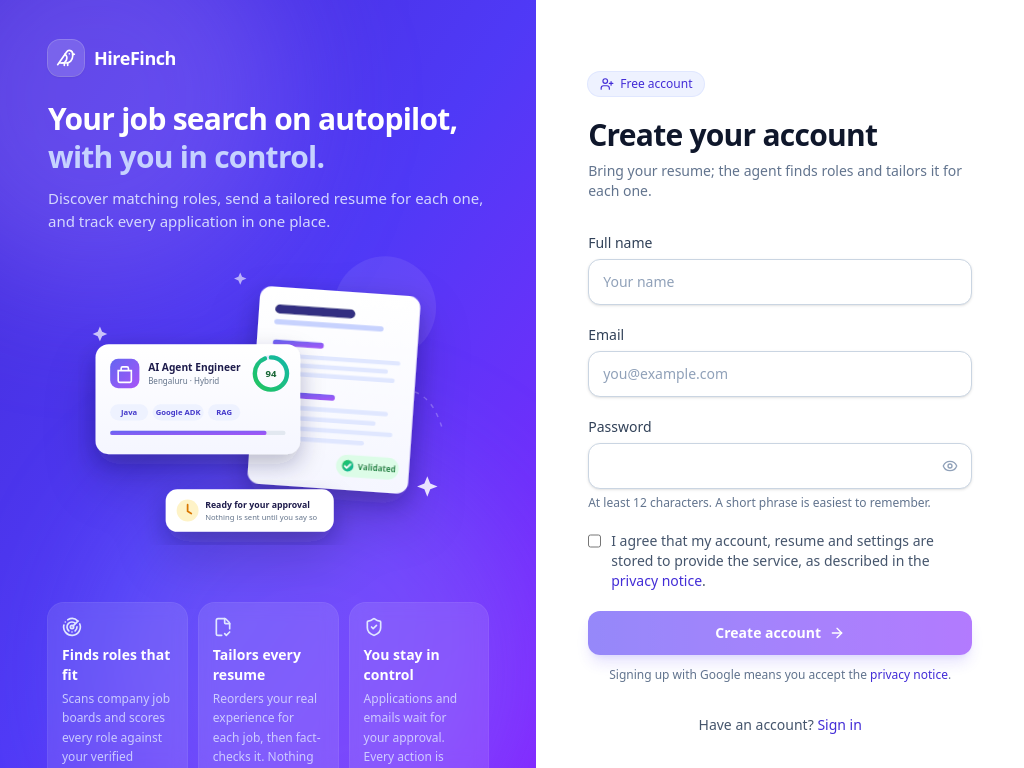
Test: RegisterPage › shows the development link when the API returns one
The width and height of the screenshot is (1024, 768).
Type "new@example.com" into the field labelled "Email" at (780, 374), box top-left (588, 351), bottom-right (972, 397)
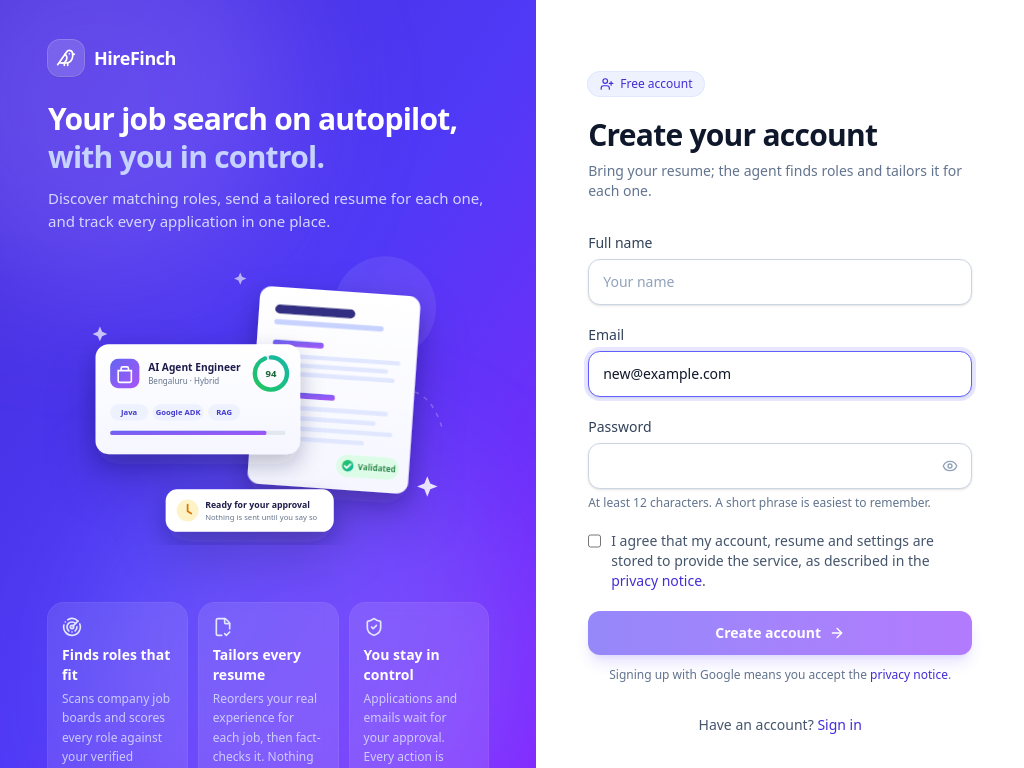
Type "a long enough password" into the password field labelled "Password" at (780, 466), box top-left (588, 443), bottom-right (972, 489)
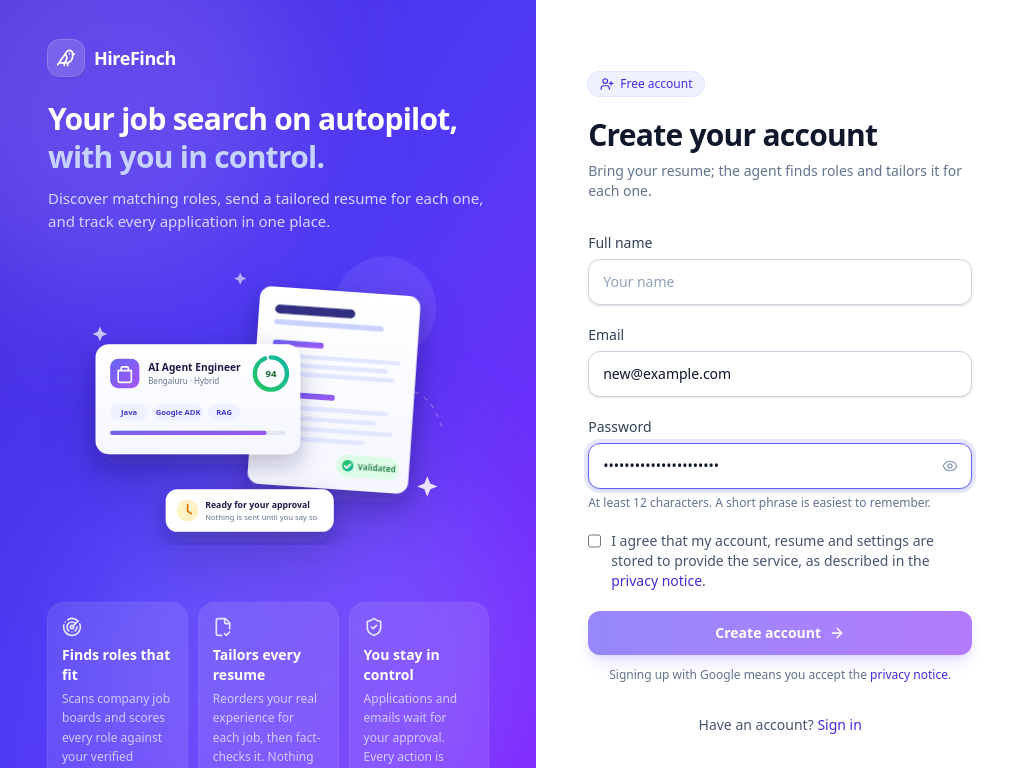
Click the checkbox at (595, 541), box top-left (588, 533), bottom-right (601, 549)
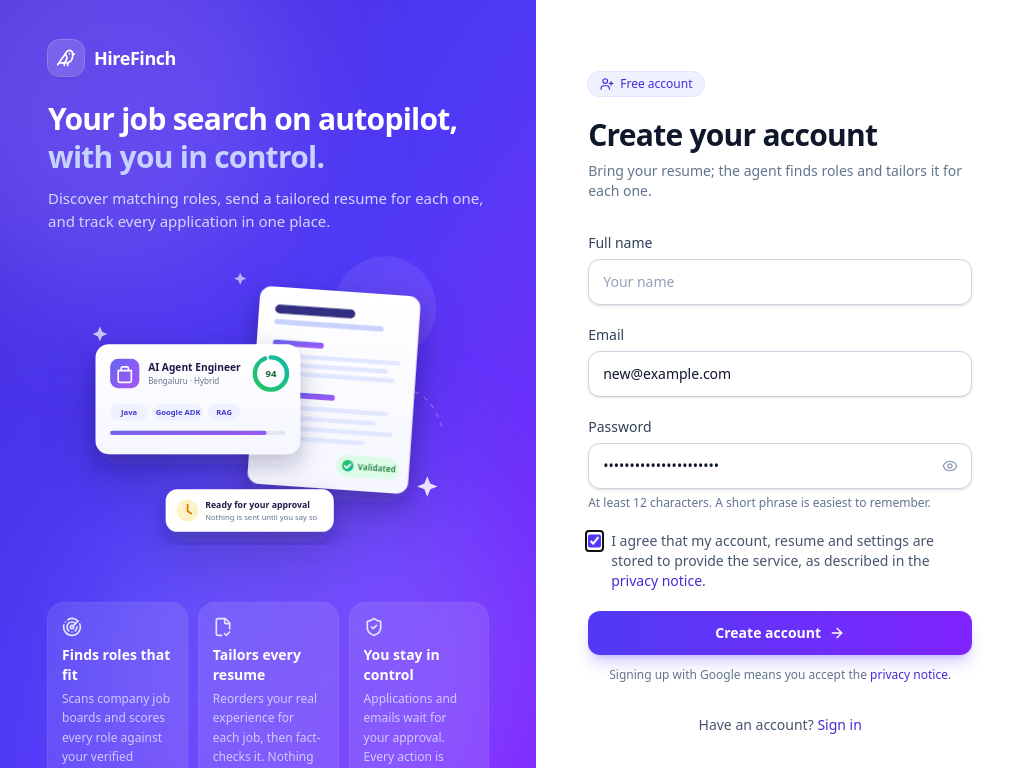
Click the button "Create account" at (780, 633), box top-left (588, 611), bottom-right (972, 655)
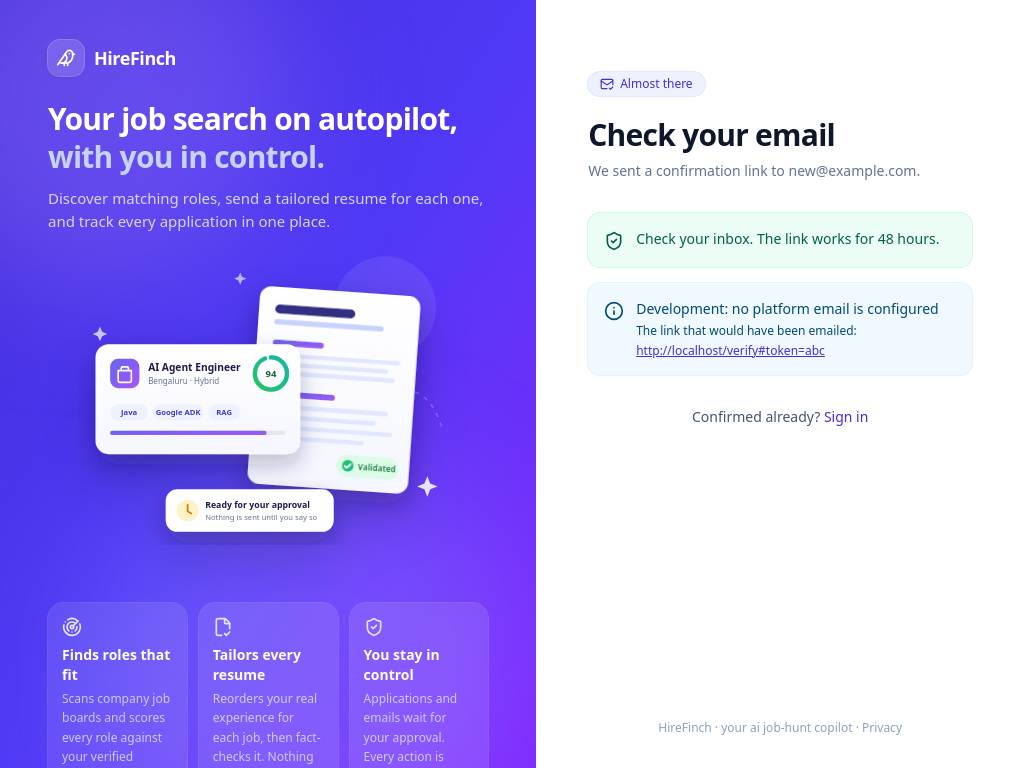
Now the text "Development: no platform email is configured" is shown, box top-left (636, 299), bottom-right (939, 319)
